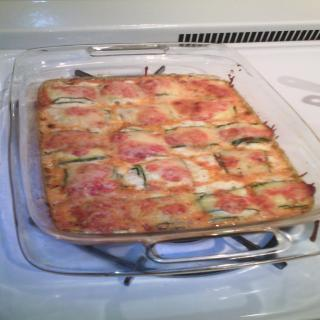Pizza: (22, 73, 310, 253)
